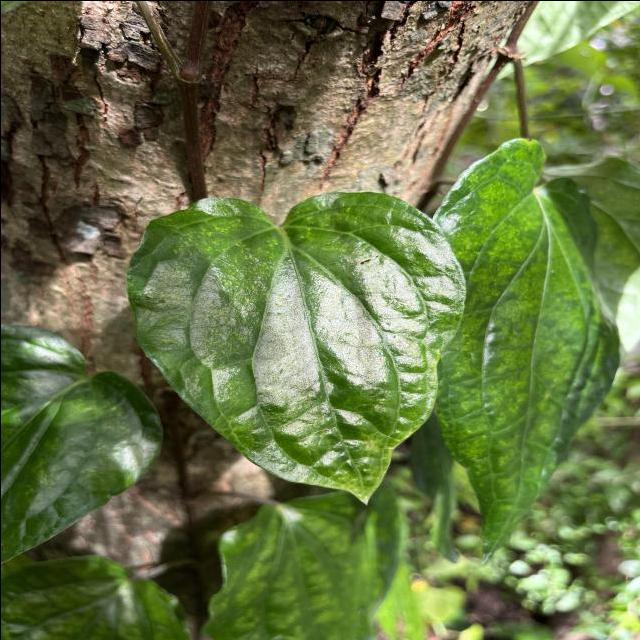Piper betle: (120, 188, 470, 512)
